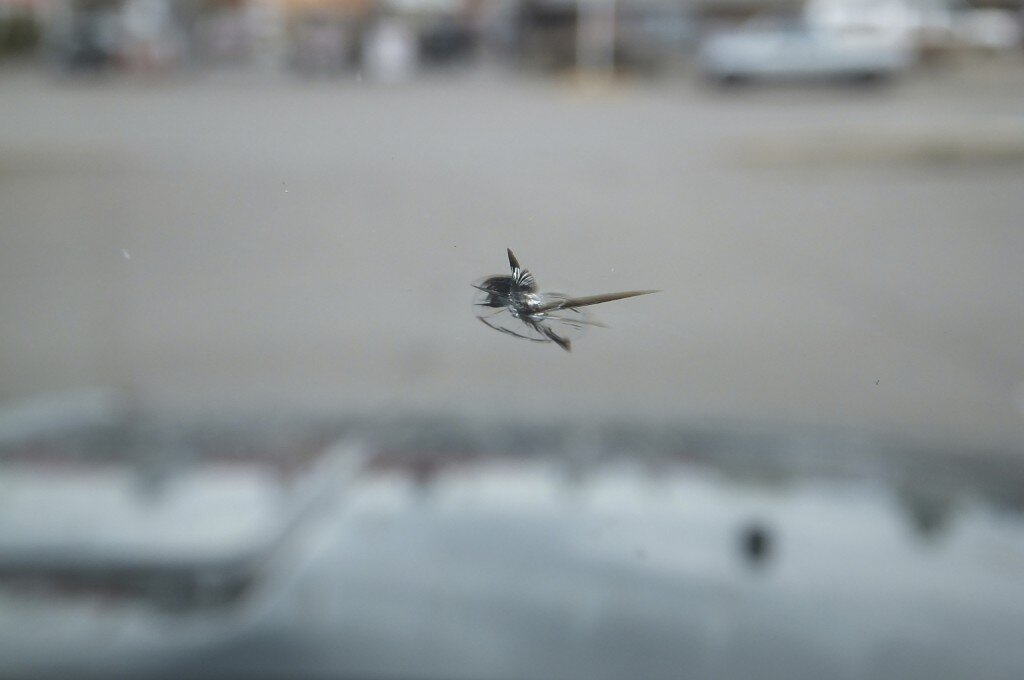bullseye: (453, 244, 665, 370)
